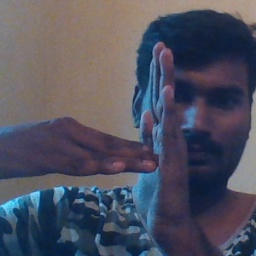Z: (53, 38, 195, 237)
